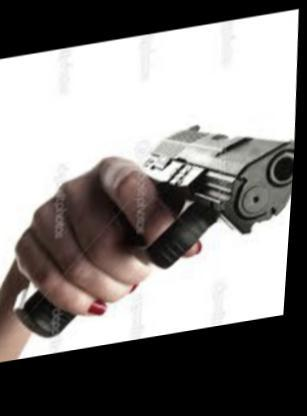pistol: (7, 113, 298, 344)
